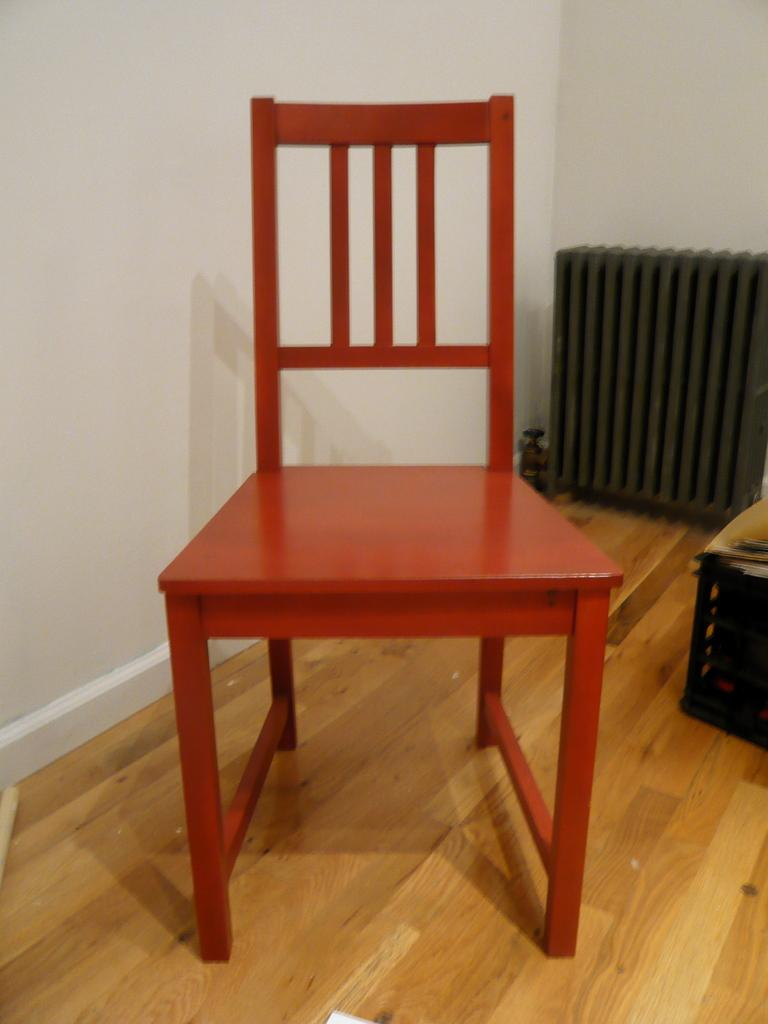Chair: (136, 46, 629, 991)
